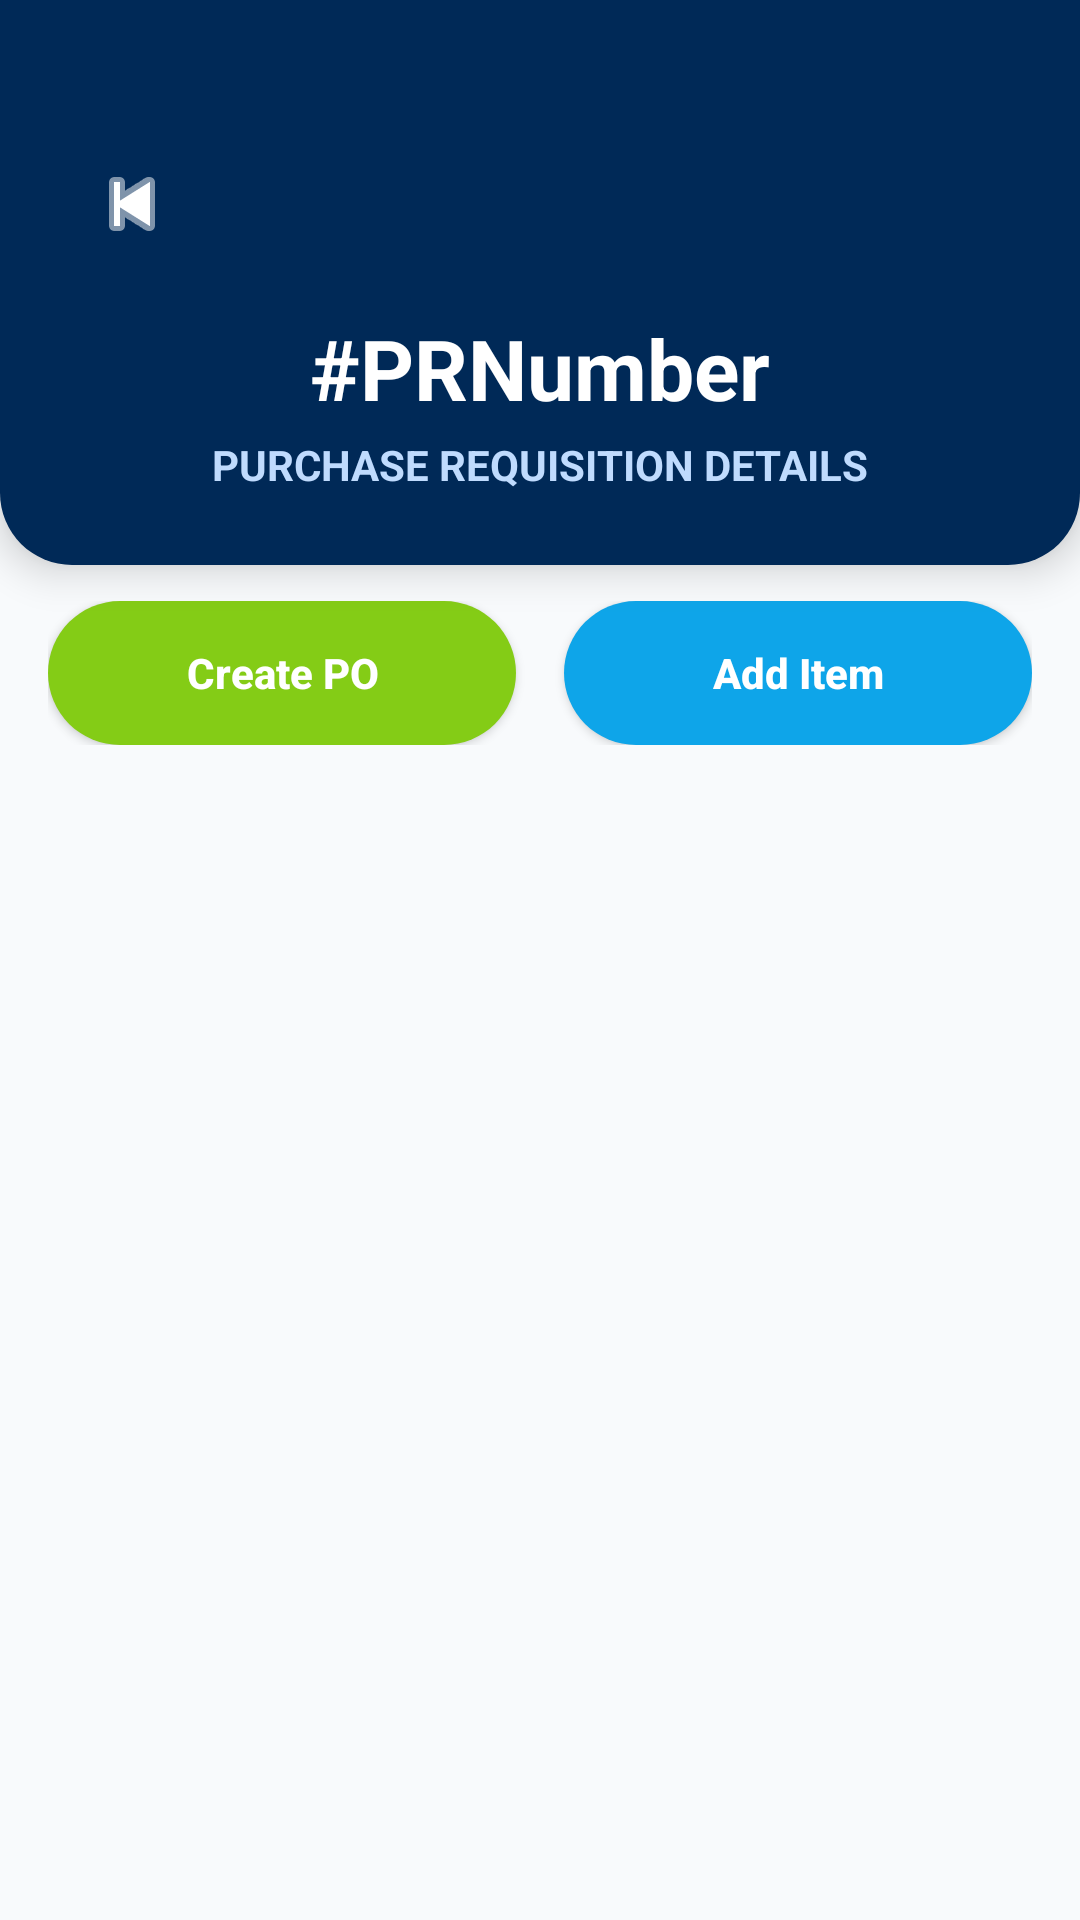

Screen size 1080x1920. Icon name, then its box in pixels as {"left": x1, "top": y1, "right": x2, "bottom": y2}:
previous: {"left": 109, "top": 177, "right": 155, "bottom": 231}
